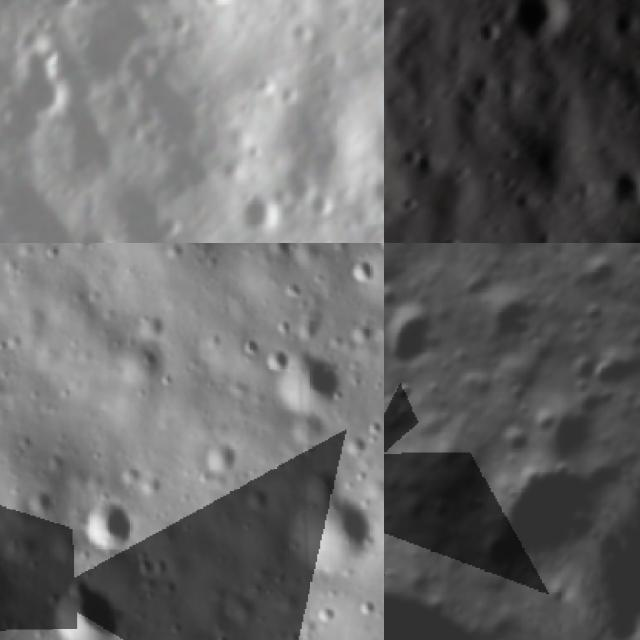crater: (285, 477, 384, 570), (467, 274, 556, 360), (524, 387, 610, 475), (384, 290, 454, 382), (495, 0, 580, 70), (47, 568, 112, 640), (282, 347, 349, 414), (586, 338, 640, 404), (480, 408, 540, 466), (232, 180, 286, 238), (594, 158, 640, 218), (558, 349, 604, 396), (82, 501, 128, 547), (298, 185, 340, 226), (184, 0, 239, 24), (204, 442, 240, 476), (359, 168, 384, 212), (26, 491, 56, 520), (351, 256, 376, 288), (635, 243, 640, 358), (264, 346, 283, 373), (318, 601, 333, 629), (357, 601, 380, 618), (40, 244, 64, 258)
